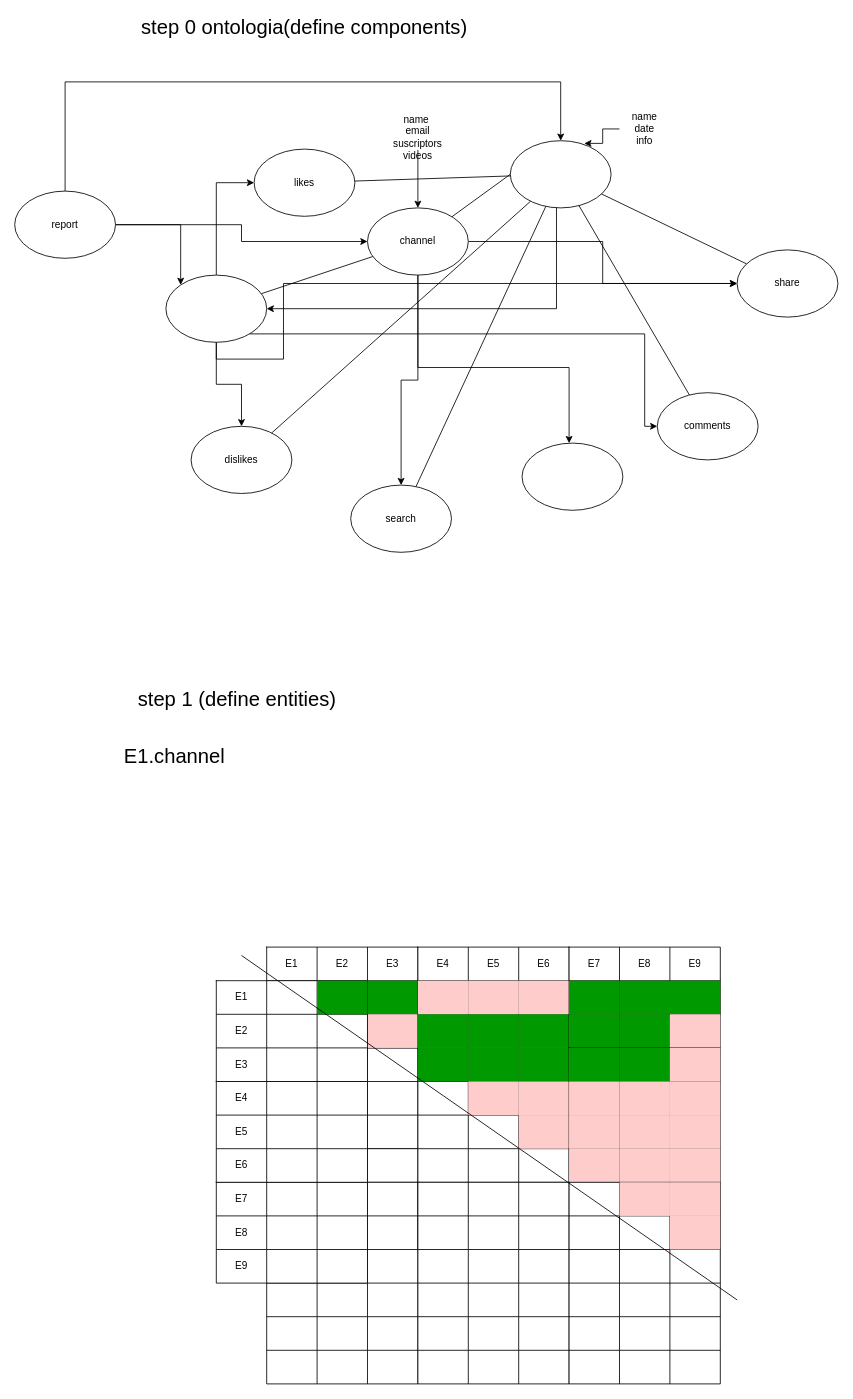
The diagram is 853 pixels wide and 1399 high, and some of its shapes have lost their labels. Here are the shapes that lost their labels. From the top down, the centre of each, then its label:
point 560,174: video
point 216,308: live
point 572,476: Suscriptors
